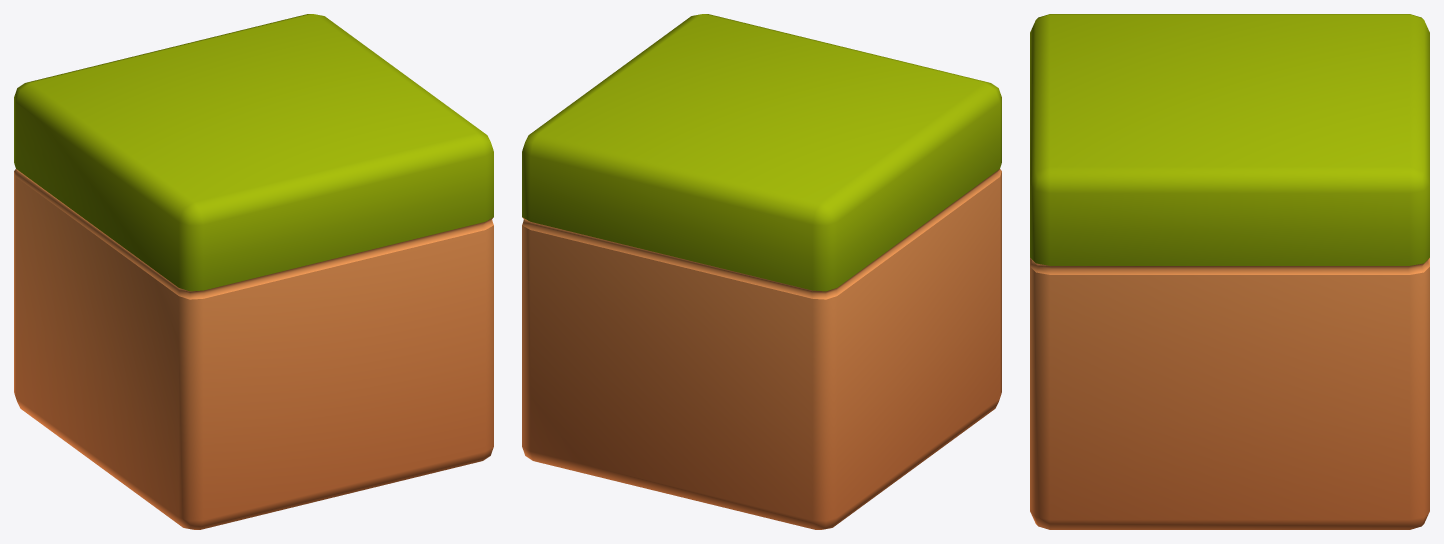
The model's file is 3D_Tile_Ground_01.fbx.
3 renders of one model, left to right at view 1: azimuth 30°, elevation 25°; view 2: azimuth 150°, elevation 25°; view 3: azimuth 270°, elevation 25°, orthographic. The views are drawn at different scales.
Visible parts, largest first — view 1: 3D_Tile_Ground_01; view 2: 3D_Tile_Ground_01; view 3: 3D_Tile_Ground_01.
Part boxes in pixels (bbox=[...]): 3D_Tile_Ground_01: bbox=[14, 14, 493, 529]; 3D_Tile_Ground_01: bbox=[522, 14, 1001, 529]; 3D_Tile_Ground_01: bbox=[1030, 14, 1429, 529].
Bounding box in the file's own units: 200 × 200 × 200.
